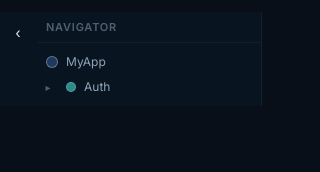
Test: TreeNav component › collapsing an already-expanded feature removes it from expanded set
Click the button with class "tree-accordion__arrow".
click(48, 86)  # box [38,80,58,92]
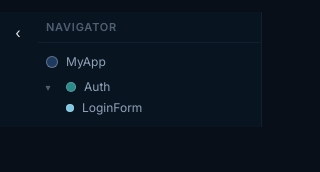
Expected: the button with class "tree-accordion__arrow" is expanded
Click the button with class "tree-accordion__arrow".
click(48, 86)  # box [38,80,58,92]
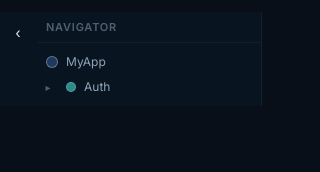
Expected: the button with class "tree-accordion__arrow" is collapsed, [38,80,58,92]
